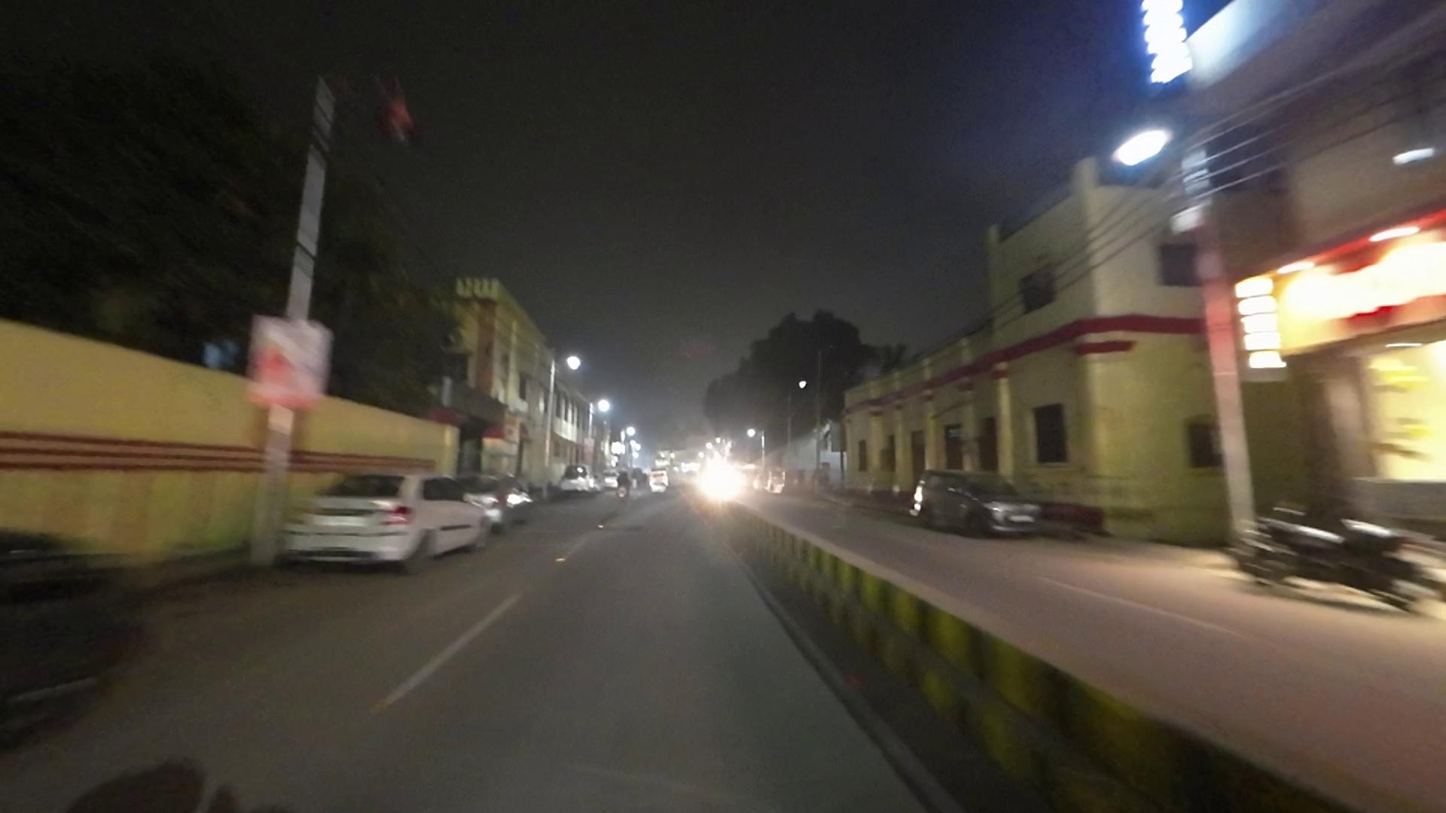streetlight: (368, 75, 418, 152)
